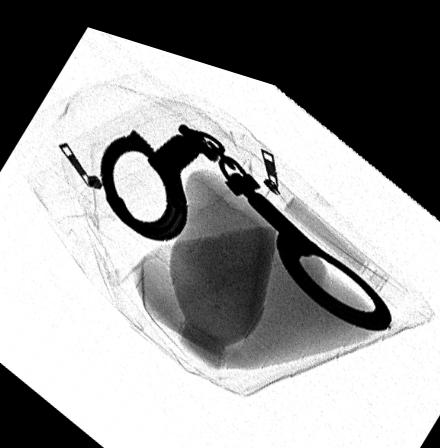HandCuffs: (98, 113, 391, 308)
